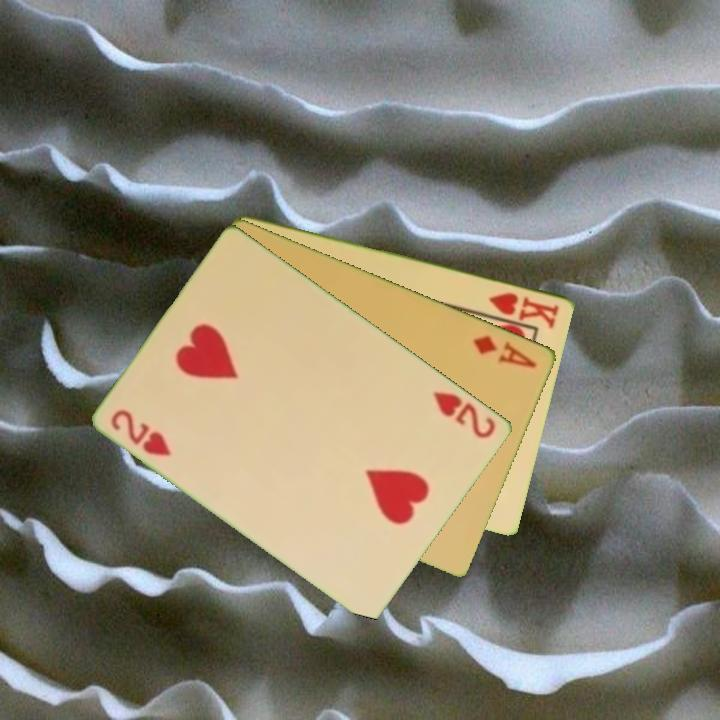2h: (430, 387, 500, 442), (107, 405, 175, 459)
Ad: (470, 331, 541, 371)
Kh: (486, 288, 563, 331)
